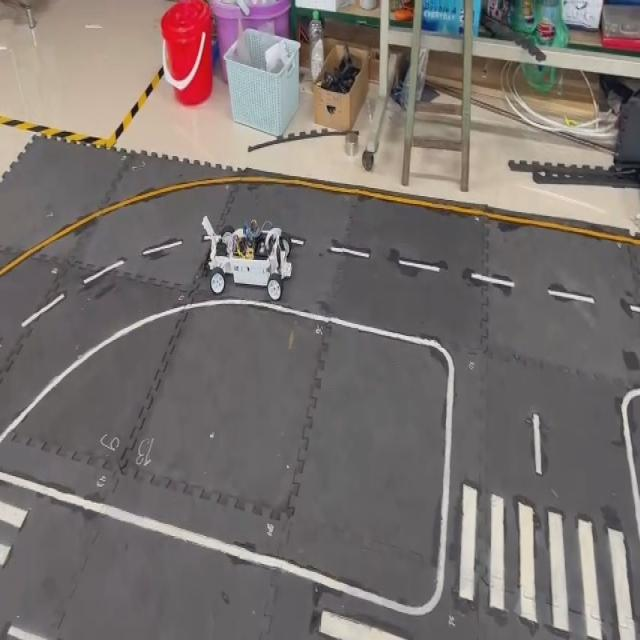SiCo-CAR: (200, 212, 293, 301)
